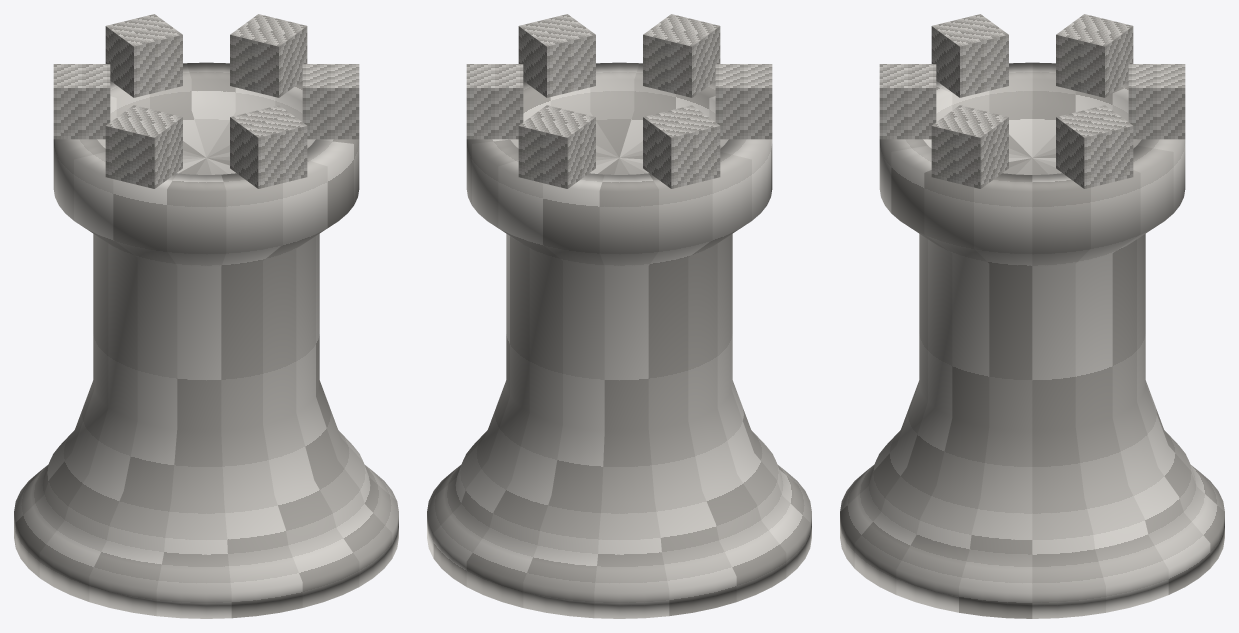
Rendered from rook.glb.
The picture shows the model from 3 angles, left to right: view 1: azimuth 30°, elevation 25°; view 2: azimuth 150°, elevation 25°; view 3: azimuth 270°, elevation 25°; orthographic projection.
Visible parts, largest first — view 1: split-part (×2); view 2: split-part (×2); view 3: split-part (×2).
Boxes of the visible parts, x1,y1,x2,y2 form: split-part (×2): [14, 14, 398, 618]; split-part (×2): [427, 14, 811, 618]; split-part (×2): [840, 14, 1224, 618].
Bounding box in the file's own units: 25.16 × 33.3 × 25.16.
Materials: 1 (1 with a texture image).
